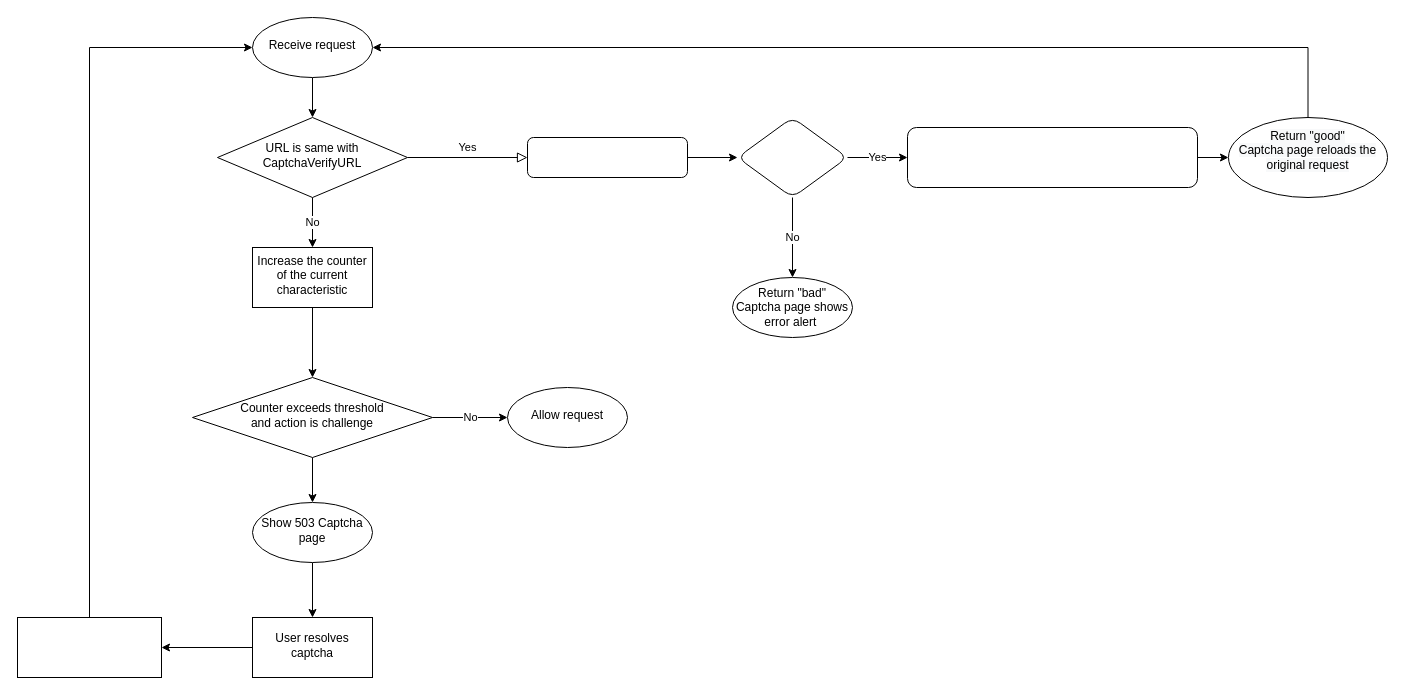
Some shapes in this 1405 by 695 pixel diagram are drawn without their labels. Here are the shapes that lost their labels. From the top down, the box of each, then its label:
(526, 136, 688, 178): Send Captcha verify request to Captcha API server
(736, 116, 848, 198): Response is Success
(906, 126, 1198, 188): Reset the counter of the current characteristic
(16, 616, 162, 678): Send captcha result to Captcha Verify URL
